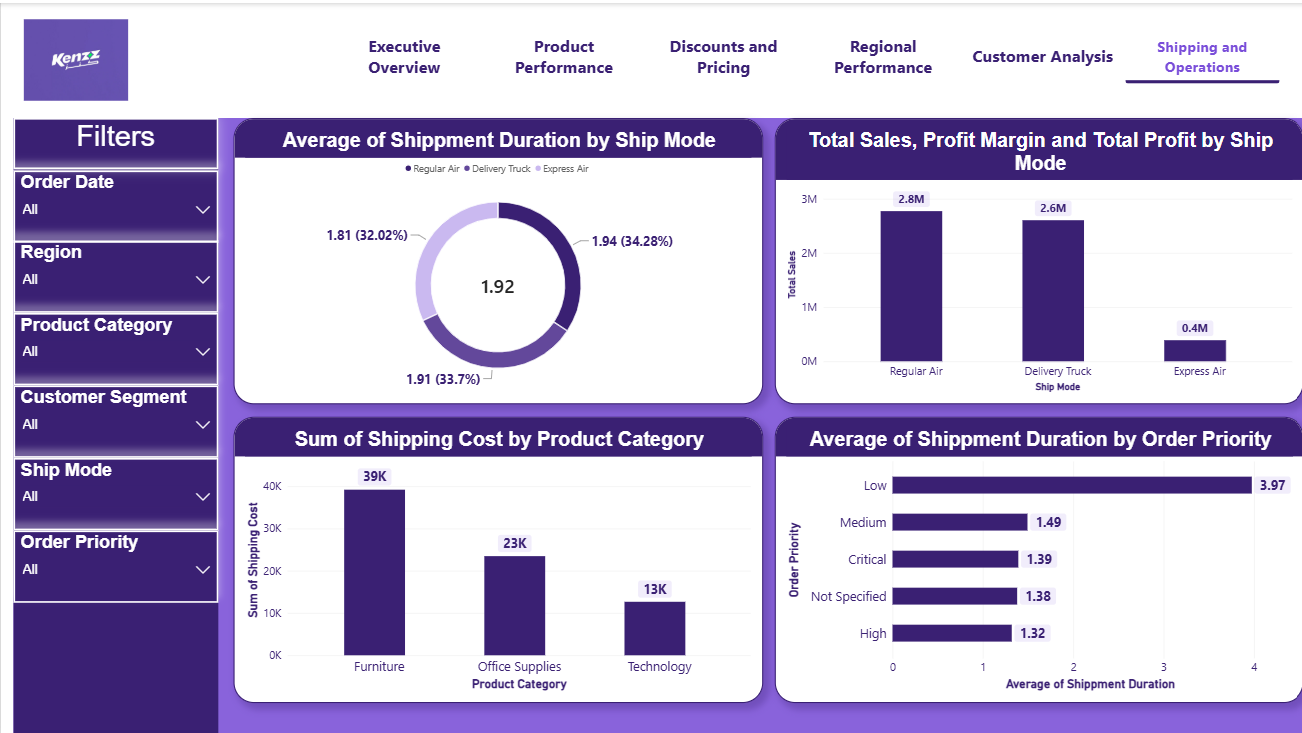

This screenshot's page, from the dashboard's own definition file:
{"tool":"powerbi","page":{"name":"Shipping and Operations","canvas":[1920,1080],"ordinal":6},"visuals":[{"type":"shape","box":[0,140.9,18.8,939.1],"z":0},{"type":"shape","title":"Super Store Analysis Dashboard","box":[0,0,1919.6,169.3],"z":1000},{"type":"image","box":[18.4,23.9,184.1,119.6],"z":2000},{"type":"pageNavigator","box":[480.4,38.7,1404.3,81],"z":3000},{"type":"shape","box":[18.4,169,301.8,911],"z":4000},{"type":"textbox","box":[18.4,169.3,301.8,75.5],"z":5000},{"type":"slicer","fields":{"Values":["Final Sales Data.Order Date"]},"box":[18.4,246.6,301.8,106.7],"z":6000},{"type":"slicer","fields":{"Values":["Customers Data.Region"]},"box":[18.4,349.7,301.8,106.7],"z":7000},{"type":"slicer","fields":{"Values":["Products Data.Product Category"]},"box":[18.4,456.4,301.8,106.7],"z":8000},{"type":"slicer","fields":{"Values":["Customers Data.Customer Segment"]},"box":[18.4,563.2,301.8,106.7],"z":9000},{"type":"slicer","fields":{"Values":["Final Sales Data.Ship Mode"]},"box":[18.4,669.9,301.8,106.7],"z":10000},{"type":"slicer","fields":{"Values":["Final Sales Data.Order Priority"]},"box":[19.1,777.6,301.8,106.7],"z":11000},{"type":"clusteredColumnChart","fields":{"Category":["Final Sales Data.Ship Mode"],"Y":["Measures Table.Total Sales"]},"box":[1140.2,169.4,779.8,421.4],"z":12000},{"type":"donutChart","fields":{"Category":["Final Sales Data.Ship Mode"],"Y":["Avg(Final Sales Data.Shippment Duration)"]},"box":[341.7,168.9,779.8,421.4],"z":13000},{"type":"clusteredBarChart","fields":{"Category":["Final Sales Data.Order Priority"],"Y":["Avg(Final Sales Data.Shippment Duration)"]},"box":[1139.8,609.7,779.8,421.4],"z":14000},{"type":"clusteredColumnChart","fields":{"Category":["Products Data.Product Category"],"Y":["Sum(Final Sales Data.Shipping Cost)"]},"box":[341.7,609.7,779.8,421.4],"z":15000}]}

Visuals, with their boxes in screenshot pixels (x1, y1, x2, y2), scaled from the page's 1920x1080 canvas onto the 1302x733 screenshot:
shape: pyautogui.locateOnScreen(0, 96, 13, 732)
"Super Store Analysis Dashboard" shape: pyautogui.locateOnScreen(0, 0, 1301, 115)
image: pyautogui.locateOnScreen(12, 16, 137, 97)
pageNavigator: pyautogui.locateOnScreen(326, 26, 1278, 81)
shape: pyautogui.locateOnScreen(12, 115, 217, 732)
textbox: pyautogui.locateOnScreen(12, 115, 217, 166)
slicer - Final Sales Data.Order Date: pyautogui.locateOnScreen(12, 167, 217, 240)
slicer - Customers Data.Region: pyautogui.locateOnScreen(12, 237, 217, 310)
slicer - Products Data.Product Category: pyautogui.locateOnScreen(12, 310, 217, 382)
slicer - Customers Data.Customer Segment: pyautogui.locateOnScreen(12, 382, 217, 455)
slicer - Final Sales Data.Ship Mode: pyautogui.locateOnScreen(12, 455, 217, 527)
slicer - Final Sales Data.Order Priority: pyautogui.locateOnScreen(13, 528, 218, 600)
clusteredColumnChart - Final Sales Data.Ship Mode x Measures Table.Total Sales: pyautogui.locateOnScreen(773, 115, 1301, 401)
donutChart - Final Sales Data.Ship Mode x Avg(Final Sales Data.Shippment Duration): pyautogui.locateOnScreen(232, 115, 761, 401)
clusteredBarChart - Final Sales Data.Order Priority x Avg(Final Sales Data.Shippment Duration): pyautogui.locateOnScreen(773, 414, 1301, 700)
clusteredColumnChart - Products Data.Product Category x Sum(Final Sales Data.Shipping Cost): pyautogui.locateOnScreen(232, 414, 761, 700)
